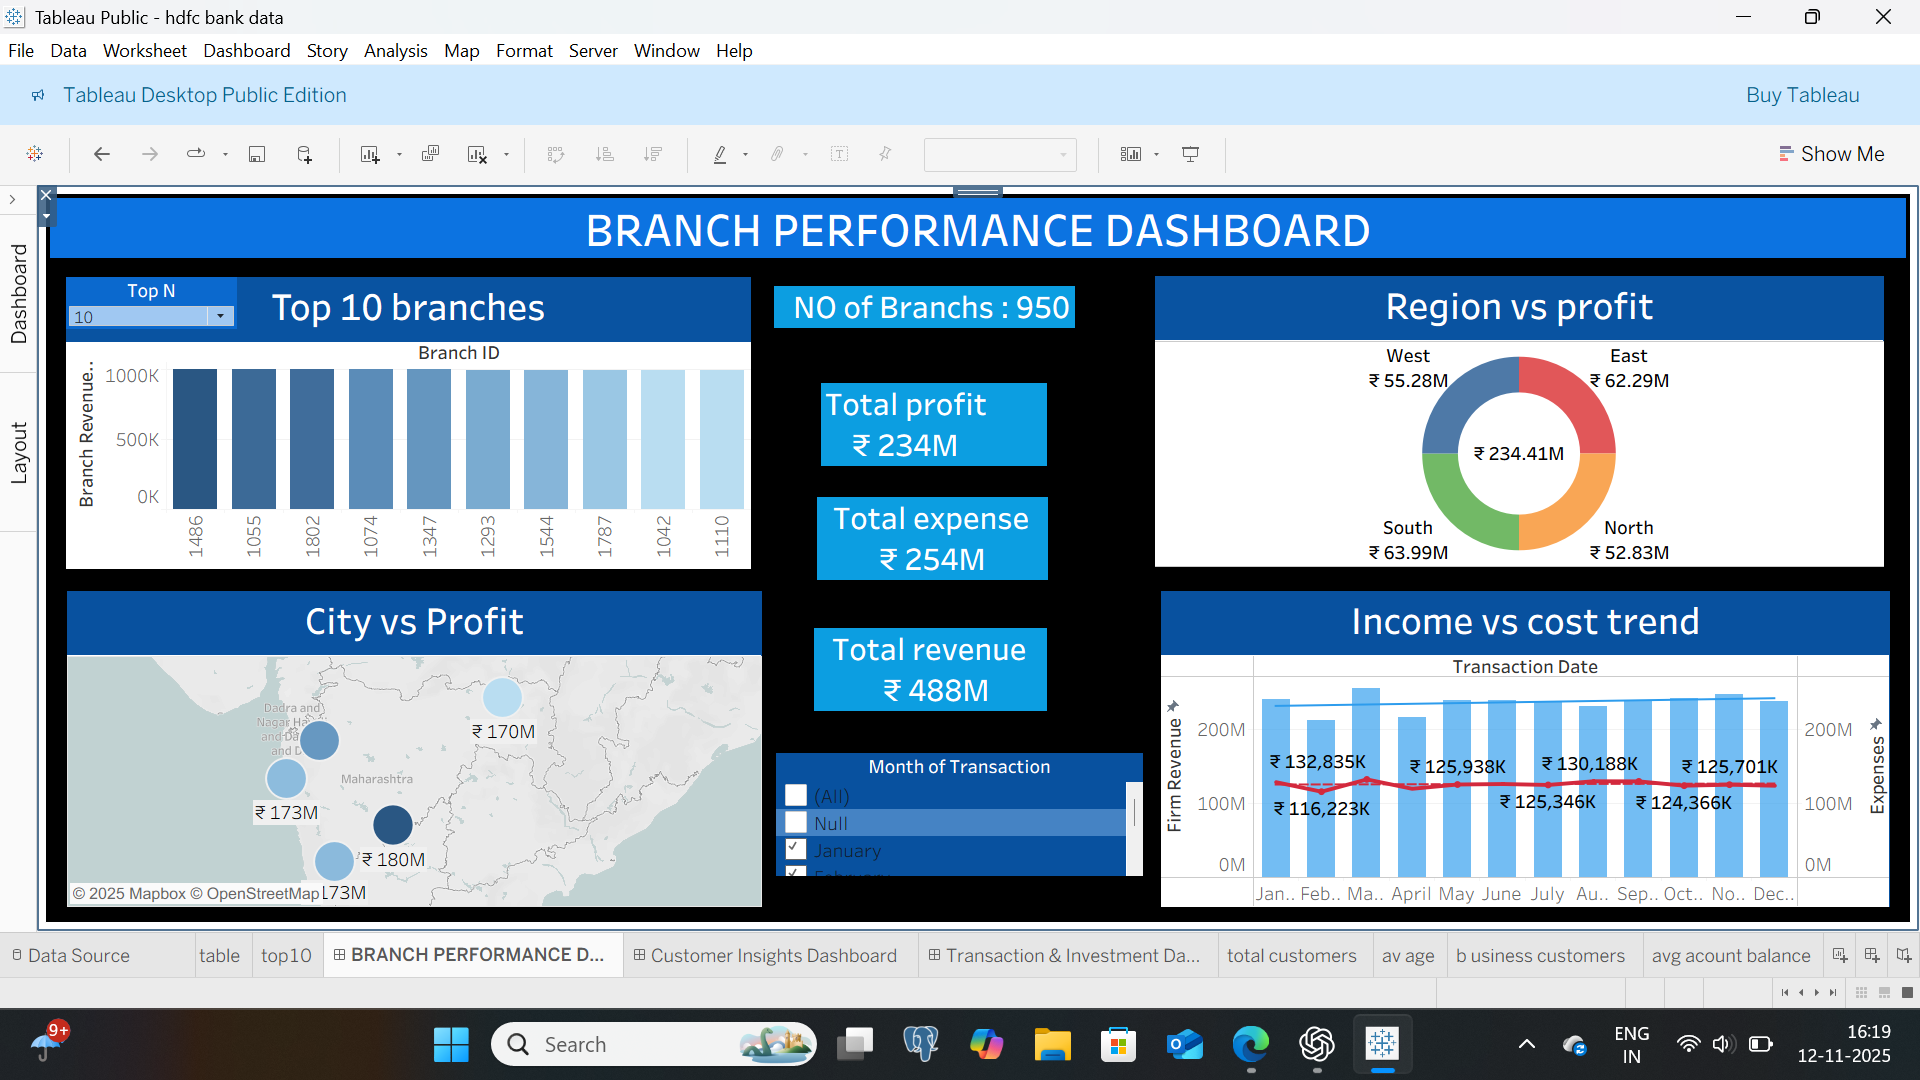

What the dashboard file says about the page in this screenshot:
{"tool":"tableau","page":{"name":"BRANCH PERFORMANCE DASHBOARD","canvas":[1000,1000],"units":"permille","ordinal":0},"visuals":[{"type":"title","box":[4.8,12.1,990.4,91.2]},{"type":"worksheet","title":"no of branches","mark":"Automatic","box":[391.6,115.3,213.6,101.9]},{"type":"worksheet","title":"region vs profit","mark":"Pie","cols":["Calculation_1619044071102386183","Calculation_1619044071102439433"],"box":[594.1,122,387.2,390.1]},{"type":"parameter","param":"[Parameters].[Parameter 1]","box":[15.3,123.3,90.8,69.7]},{"type":"worksheet","title":"top 10 branches","mark":"Automatic","rows":["Calculation_1108166988713148417"],"cols":["Branch_ID"],"box":[15.6,123.3,364.1,391.4]},{"type":"worksheet","title":"profit margin","mark":"Automatic","box":[416.5,245.3,152.7,150.1]},{"type":"worksheet","title":"total expence","mark":"Automatic","box":[414.6,398.1,156.5,163.5]},{"type":"worksheet","title":"map city","mark":"Automatic","box":[16.1,544.2,369,423.6]},{"type":"worksheet","title":"income vs cost","mark":"Line","rows":["Firm_Revenue","Expenses"],"cols":["Transaction_Date"],"box":[597.4,544.2,387.1,423.6]},{"type":"worksheet","title":"total revanue","mark":"Automatic","box":[412.7,573.7,151.5,148.8]},{"type":"filter","title":"income vs cost","param":"[federated.0t0zz2c0ga5ase12rky6705l929b].[mn:Transaction_Date:ok]","box":[392.9,761.4,194.8,164.9]}]}

Visuals, with their boxes on the dashboard's canvas, which has no fixed pixel size, in thousandths of its width and height (x1, y1, x2, y2). These are canvas units, not pixel positions in the 1920x1080 screenshot, which may show the page scaled, cropped or inside an application window:
title: bbox=[5, 12, 995, 103]
"no of branches" worksheet: bbox=[392, 115, 605, 217]
"region vs profit" worksheet (Pie marks): bbox=[594, 122, 981, 512]
parameter: bbox=[15, 123, 106, 193]
"top 10 branches" worksheet: bbox=[16, 123, 380, 515]
"profit margin" worksheet: bbox=[416, 245, 569, 395]
"total expence" worksheet: bbox=[415, 398, 571, 562]
"map city" worksheet: bbox=[16, 544, 385, 968]
"income vs cost" worksheet (Line marks): bbox=[597, 544, 984, 968]
"total revanue" worksheet: bbox=[413, 574, 564, 722]
"income vs cost" filter: bbox=[393, 761, 588, 926]
